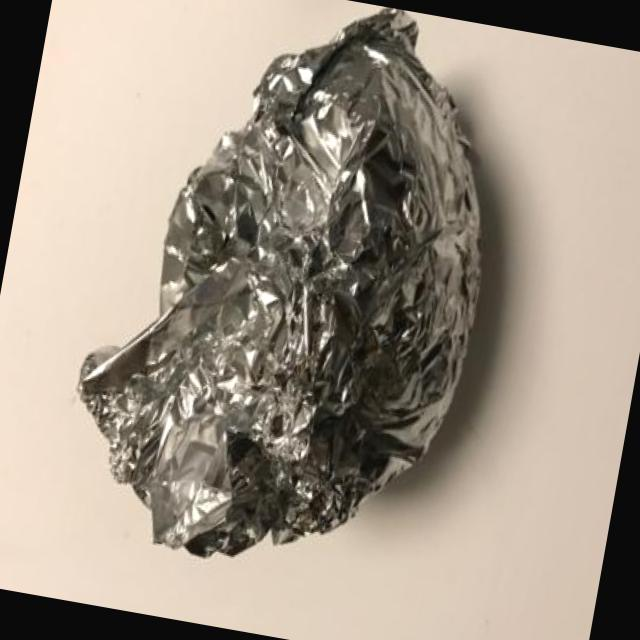kim_loai: (80, 9, 481, 557)
